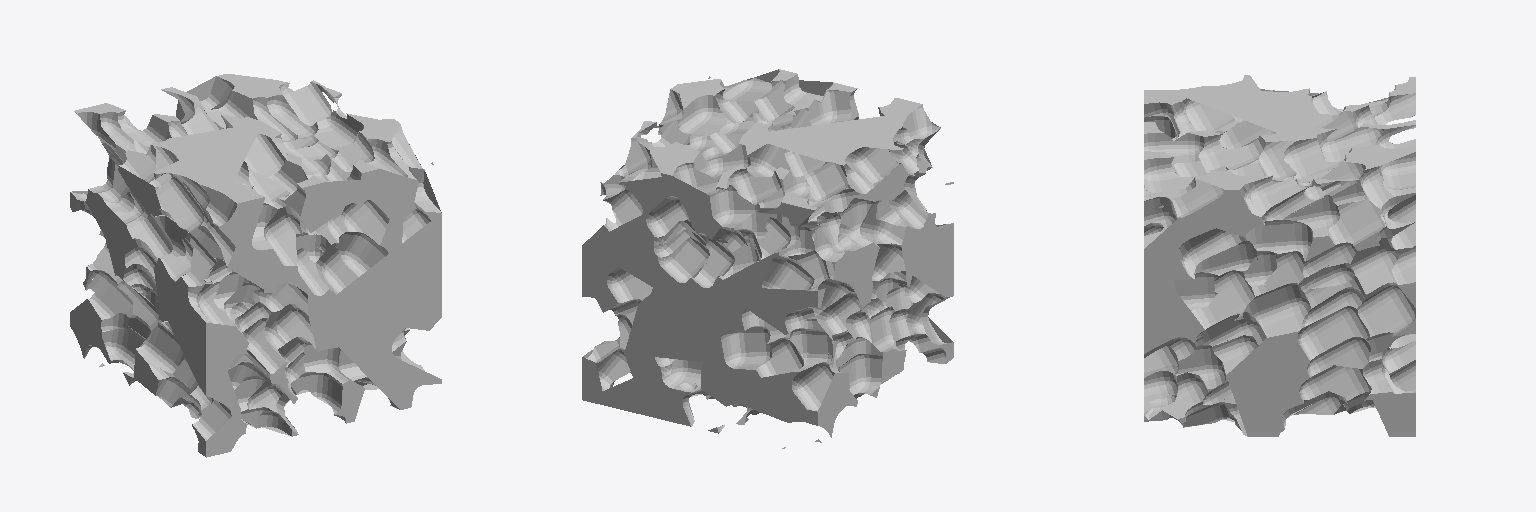
Rendered from ceece.obj.
3 renders of one model, left to right at view 1: azimuth 30°, elevation 25°; view 2: azimuth 150°, elevation 25°; view 3: azimuth 270°, elevation 25°, orthographic.
Parts seen in each view (by area): view 1: Cube; view 2: Cube; view 3: Cube.
Boxes of the visible parts, <box> form: Cube: <box>70,74,441,457</box>; Cube: <box>582,69,953,448</box>; Cube: <box>1144,75,1415,436</box>.
Bounding box in the file's own units: 0.5561 × 0.5561 × 0.5561.